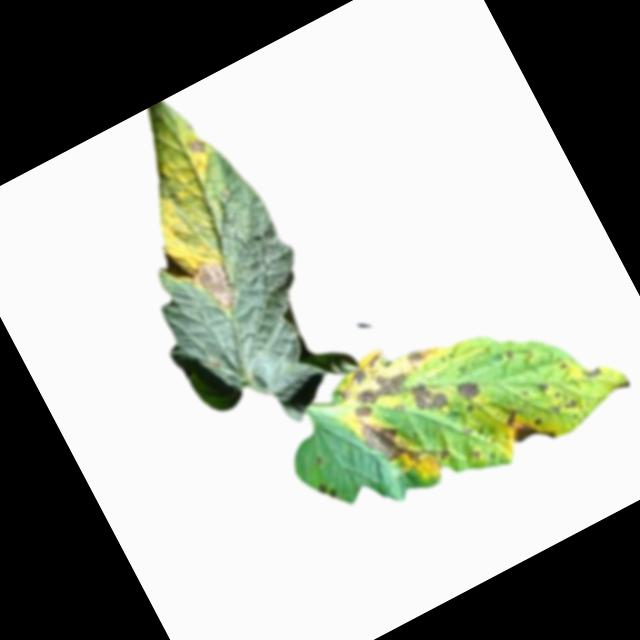Early_blight: (327, 324, 448, 425), (353, 404, 426, 483), (498, 397, 557, 457), (190, 255, 246, 317), (405, 378, 451, 423), (454, 376, 483, 406), (550, 396, 580, 422), (180, 135, 208, 160), (316, 480, 339, 504), (582, 363, 605, 383), (535, 380, 552, 398), (436, 448, 451, 463)
